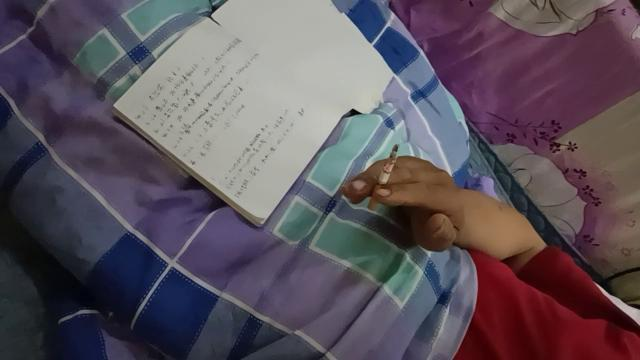Smoking: (367, 144, 399, 212)
